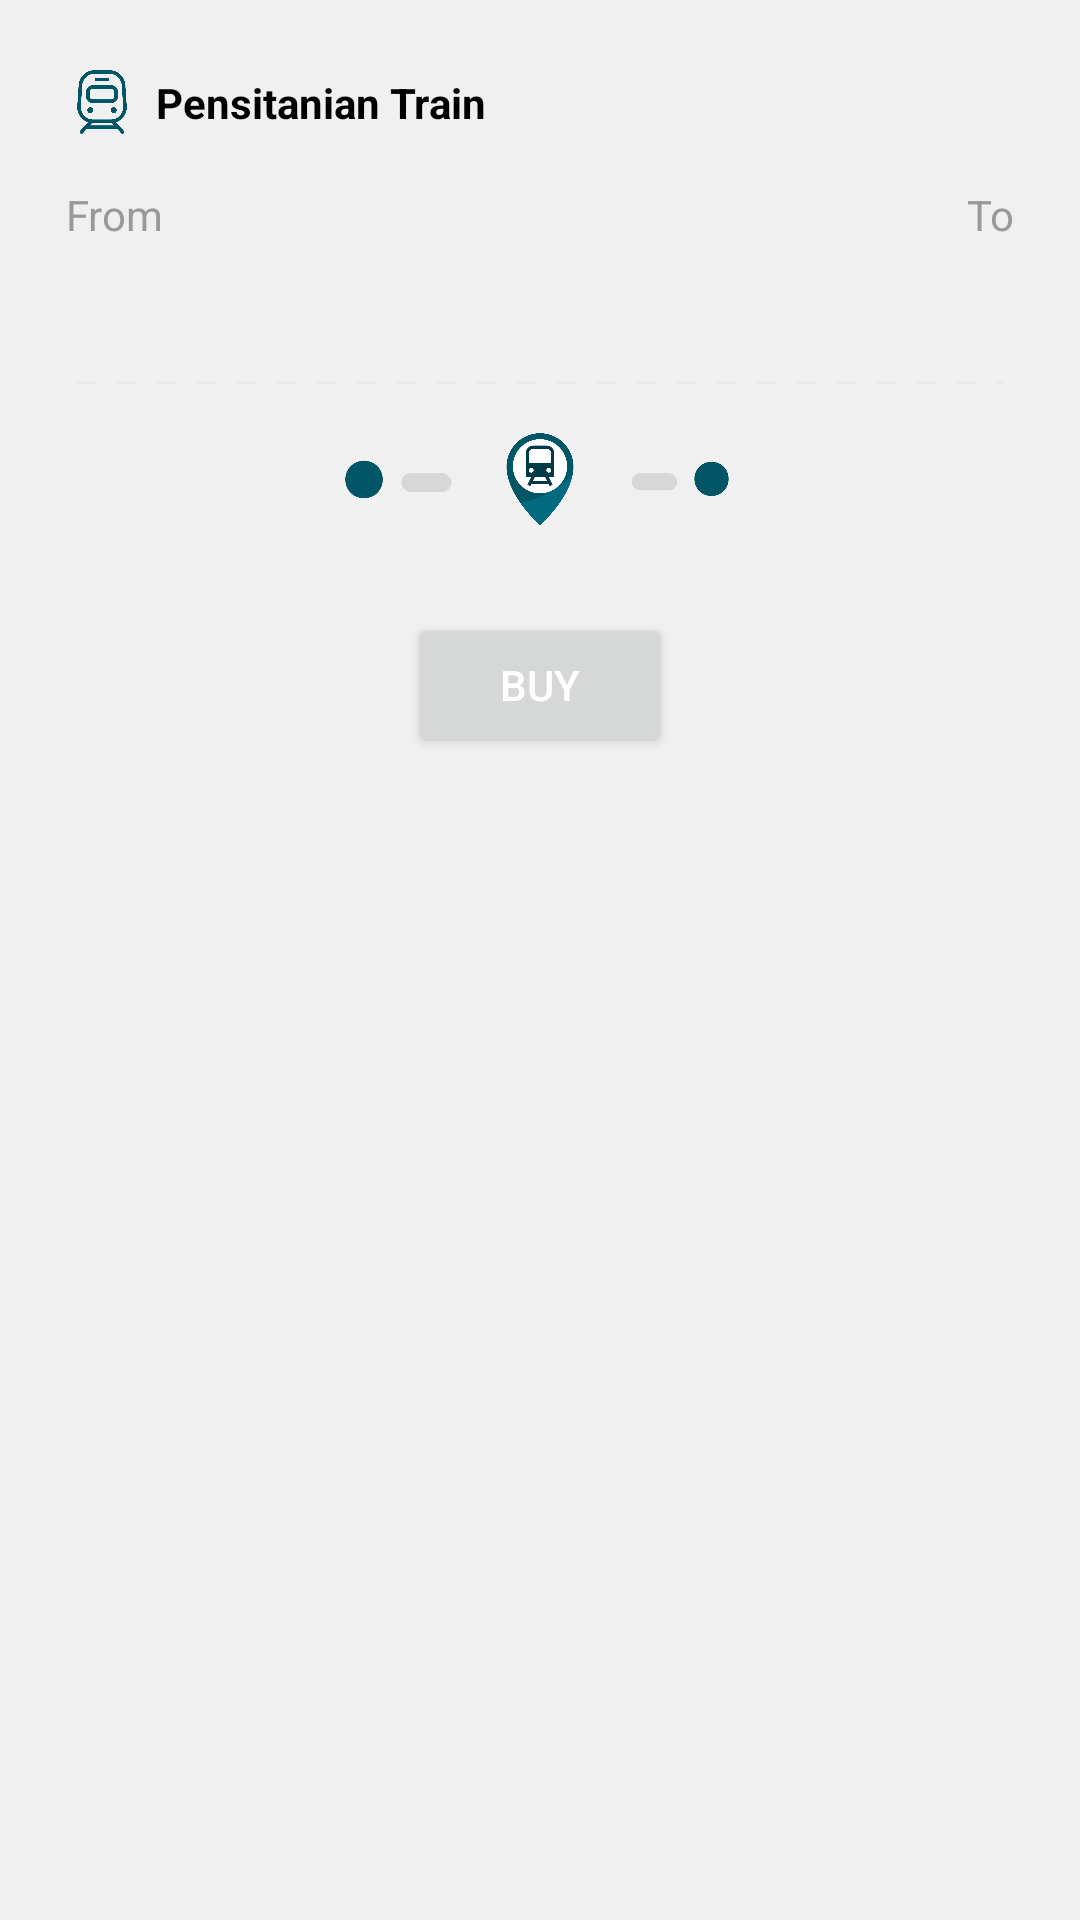

Where icons sit on this 1080px×1920px app screen, as (x1, y1, x2, y2):
slider max: (632, 462, 729, 496)
